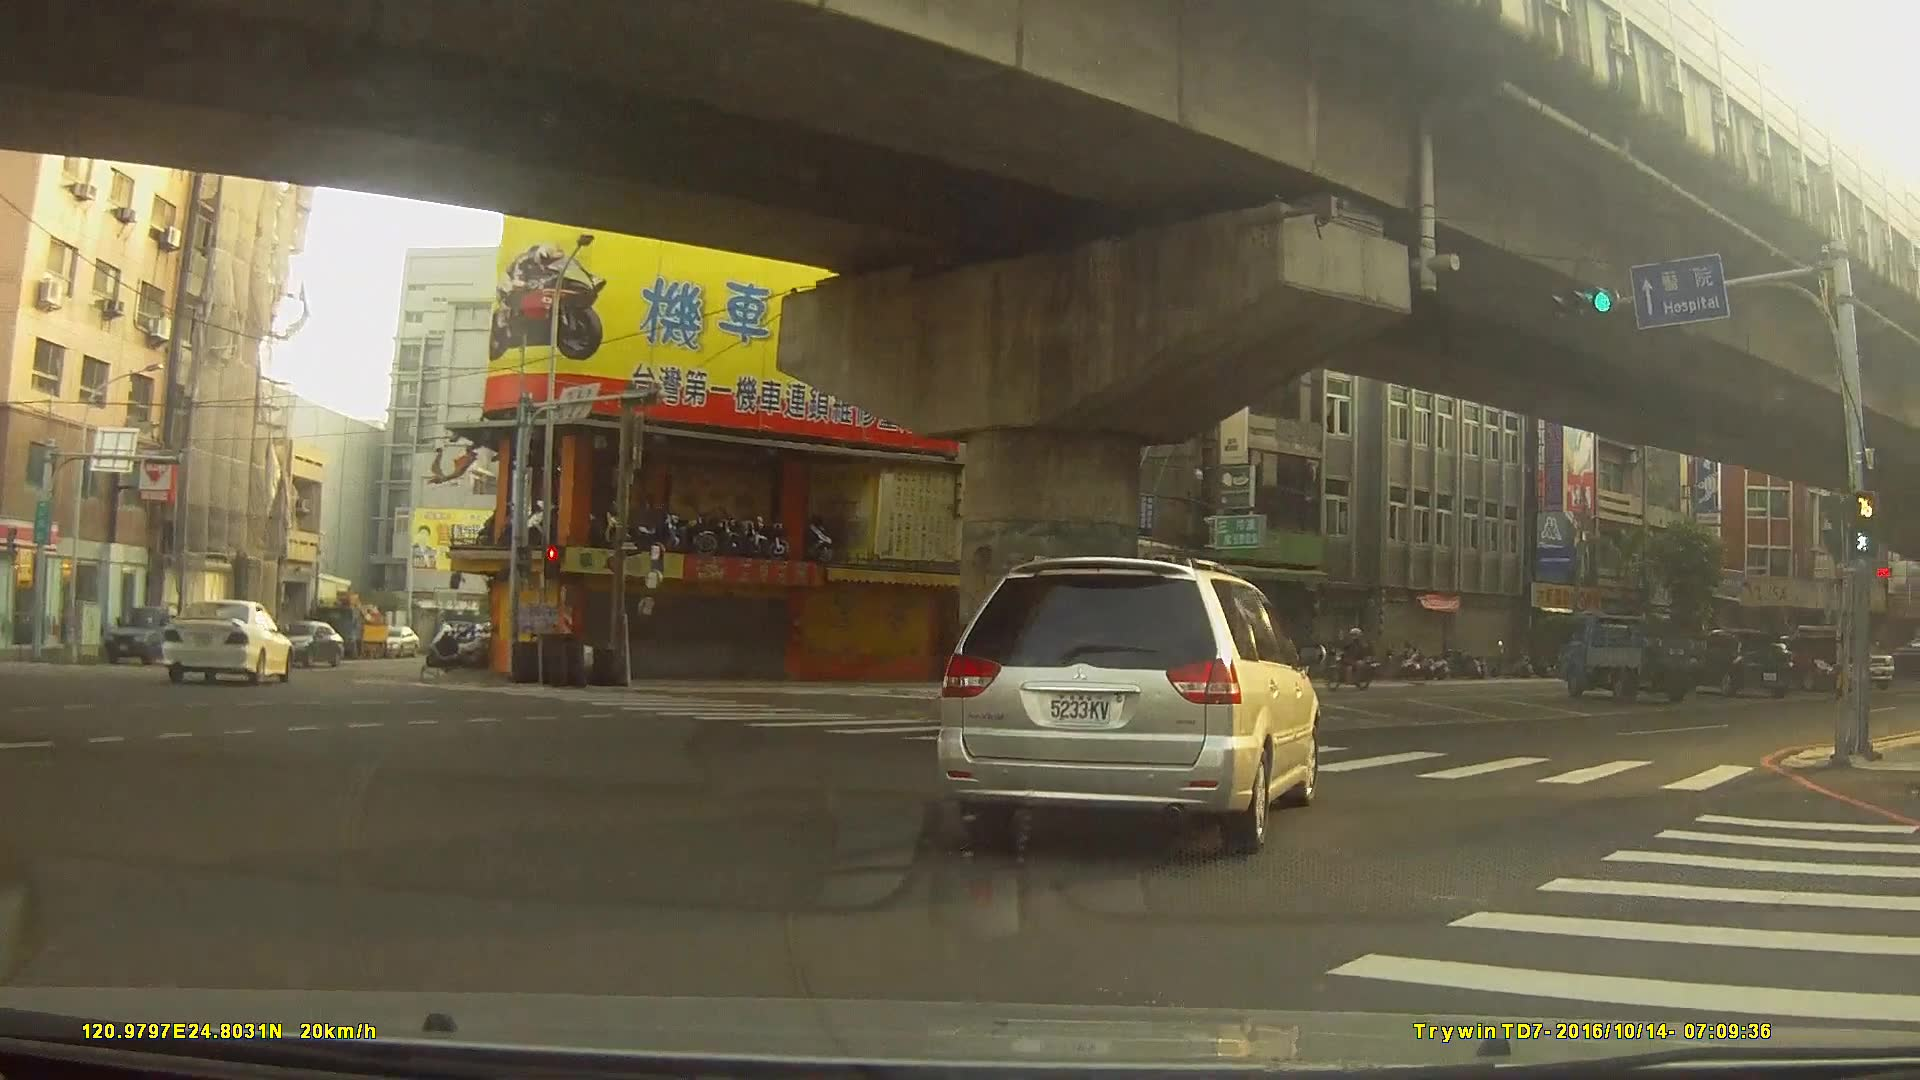rider: (1323, 629, 1381, 693)
vehicle: (934, 555, 1318, 852), (1556, 610, 1711, 701), (161, 597, 293, 684), (1672, 627, 1795, 695), (103, 601, 194, 662), (268, 618, 342, 666), (376, 624, 417, 655)
